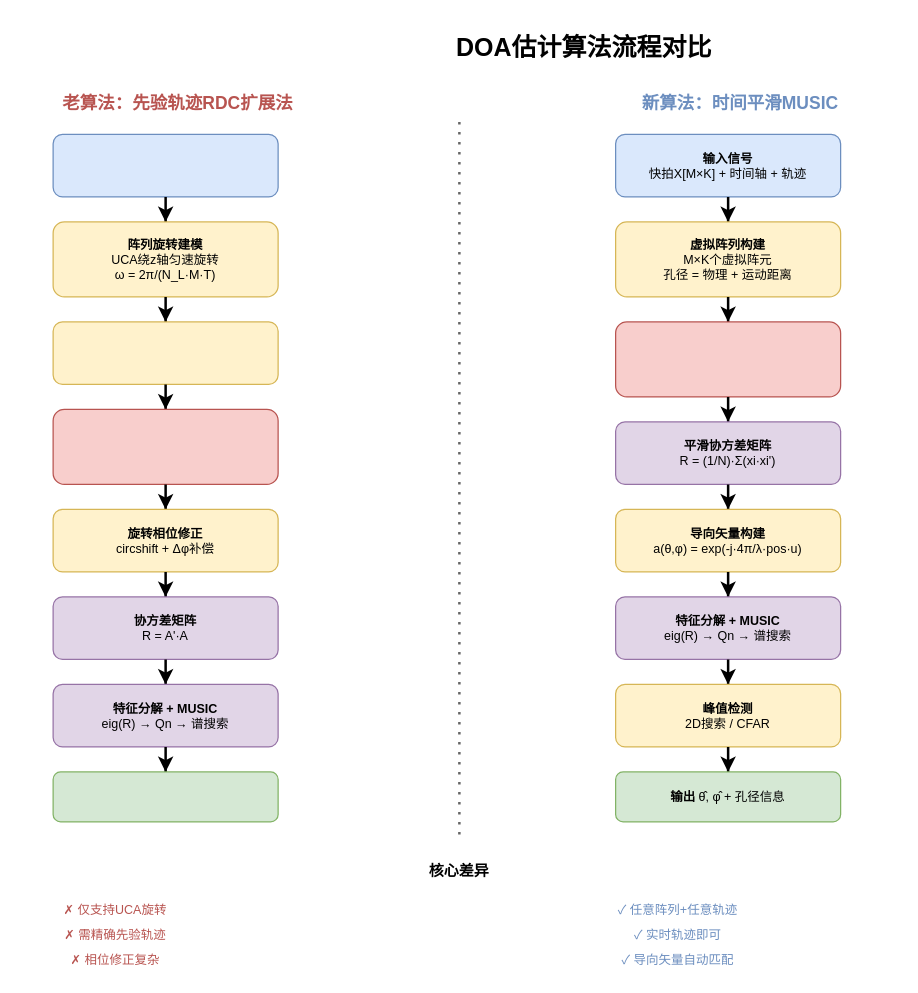
Some shapes in this 918 by 993 pixel diagram are drawn without their labels. Here are the shapes that lost their labels. From the top down, the centre of each, then its label:
pixel 165 165: 输入信号 雷达回波 + 目标参数
pixel 165 352: 构建RDC立方 距离FFT + 多普勒FFT
pixel 727 359: ★ 时间平滑 ★ 重叠子阵列划分 秩-1→满秩恢复
pixel 165 446: ★ RDC孔径扩展 ★ 相邻chirp→虚拟阵元 M → M×N_num
pixel 165 796: 输出 θ̂, φ̂
